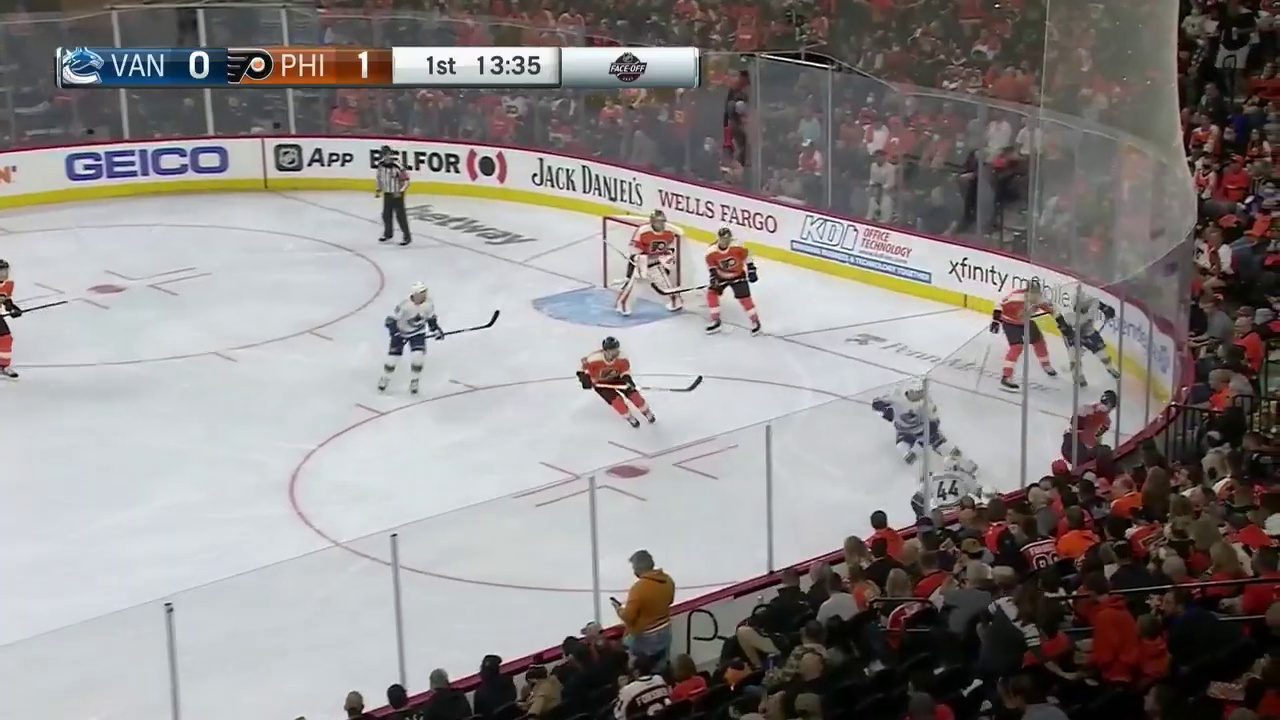goalie: (616, 210, 683, 316)
hockeyplayer: (873, 377, 979, 482), (378, 281, 445, 396), (990, 280, 1058, 392), (576, 336, 656, 428), (704, 227, 761, 336), (910, 457, 1004, 523), (1056, 292, 1120, 387), (1061, 389, 1118, 466), (1, 259, 21, 380)
referee: (374, 145, 412, 247)
